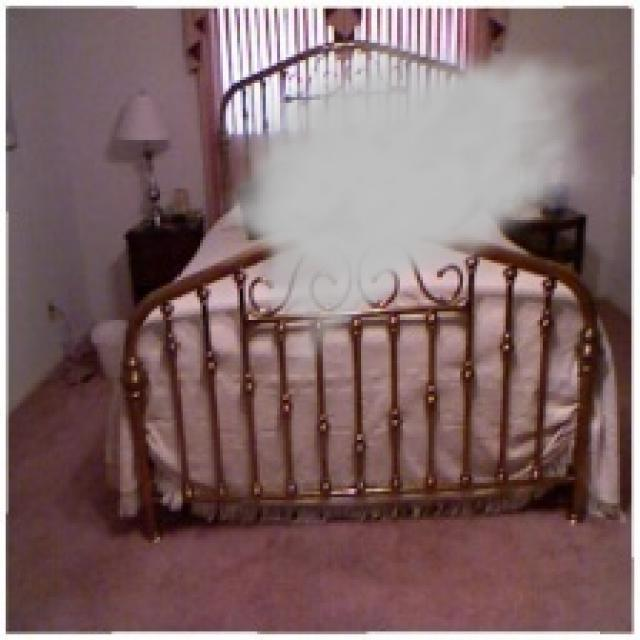Smoke: (208, 31, 612, 388)
